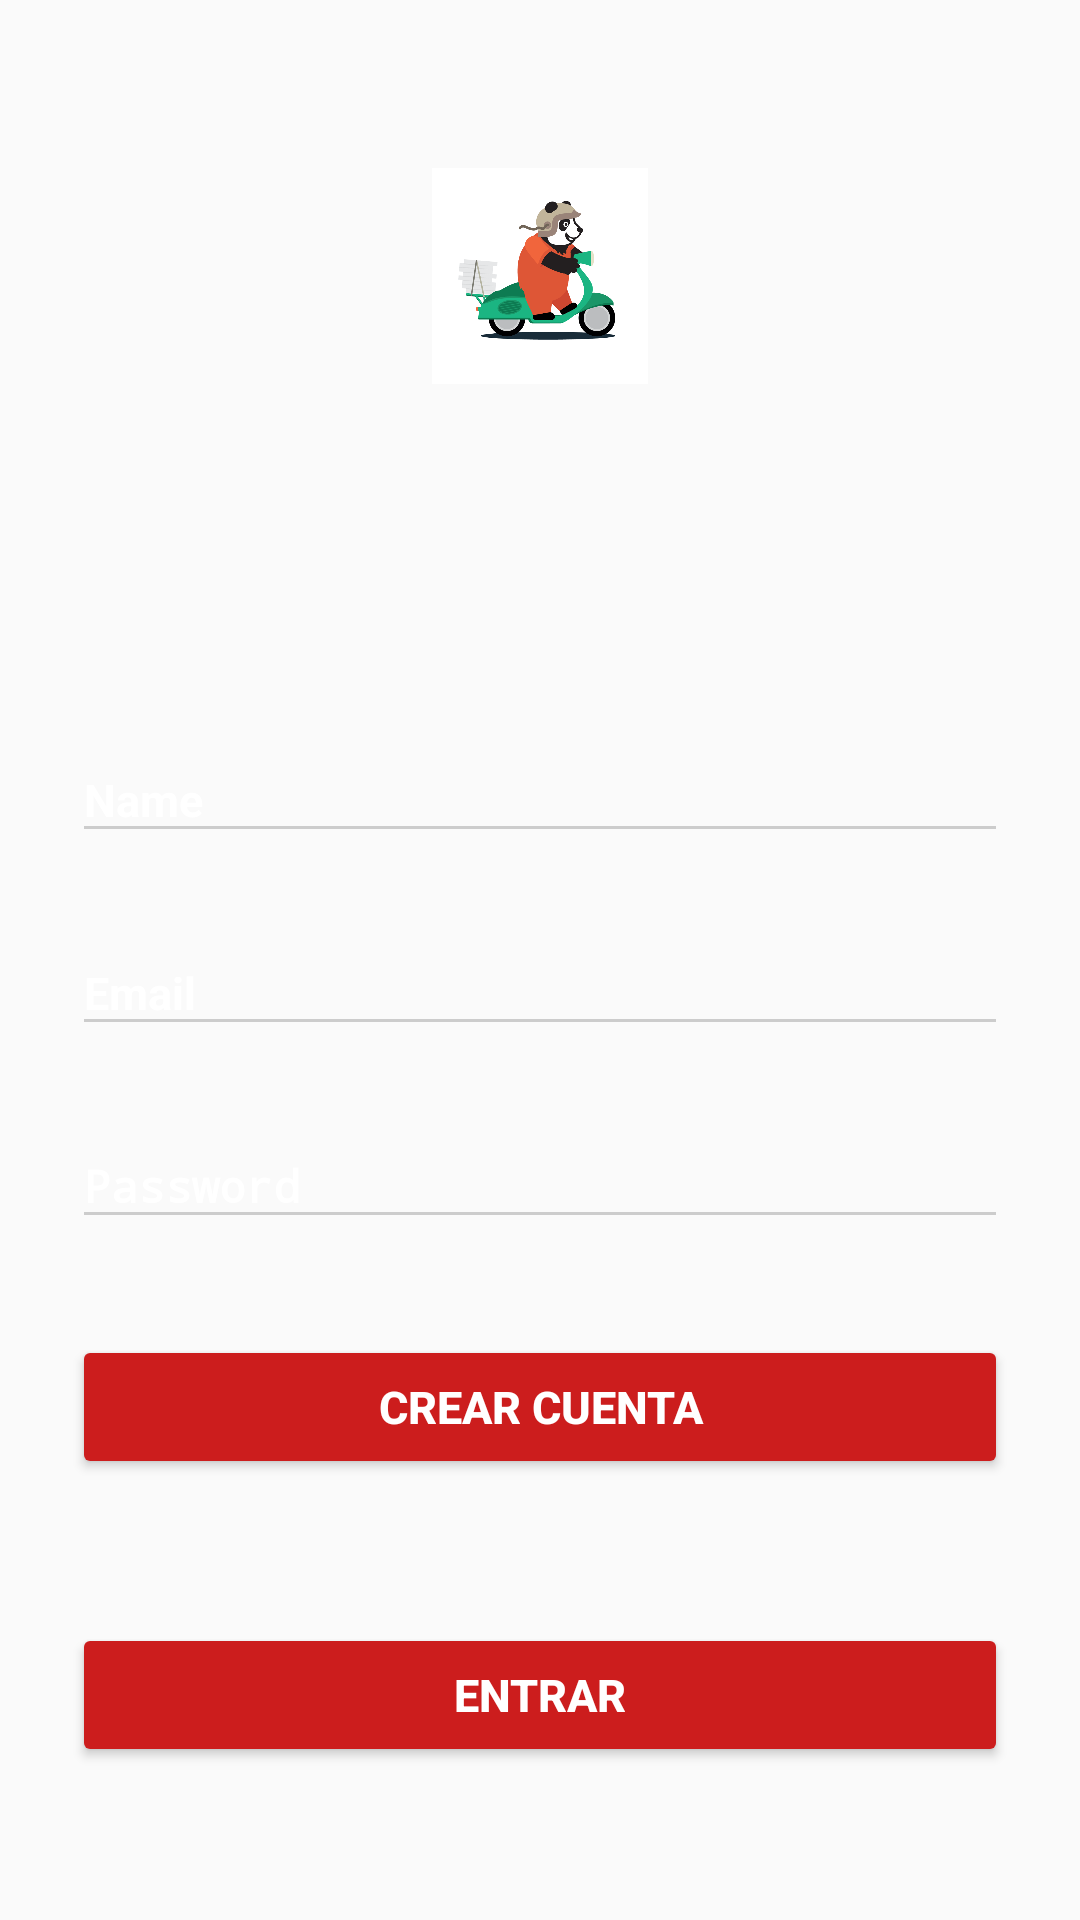

Named icons in this screenshot (1080 × 1920) and their bounding boxes, region(x1, y1, x2, y2):
delivery: region(459, 201, 615, 340)
